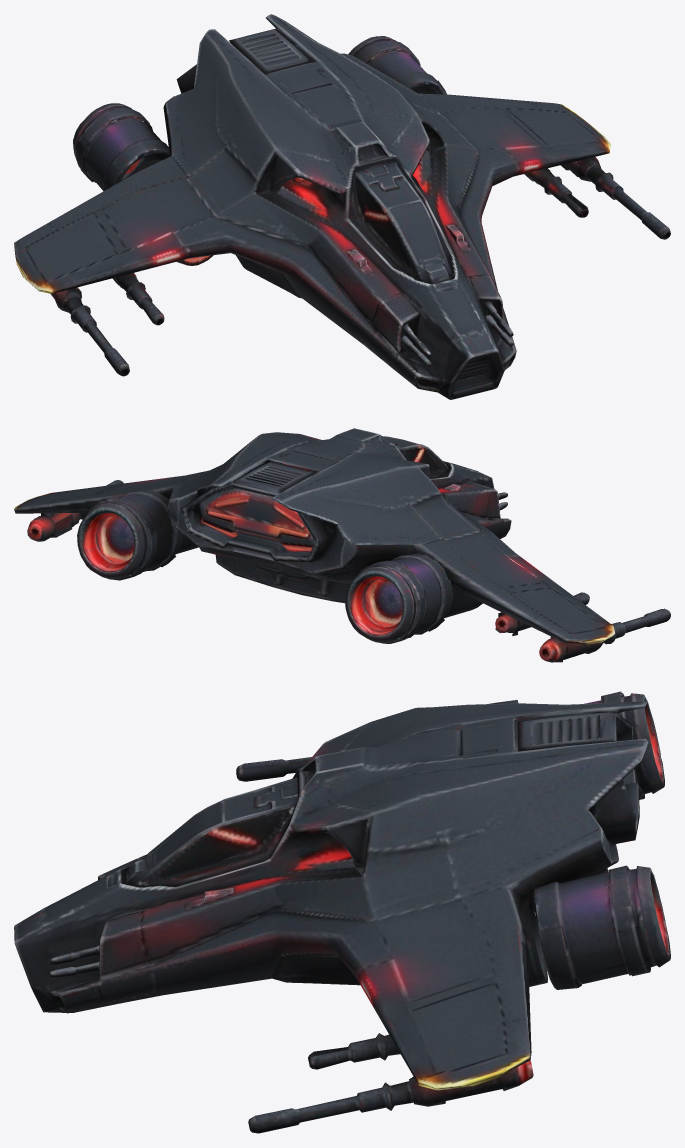
File: enemy_drone.glb
The picture shows the model from 3 angles, top to bottom: view 1: azimuth 30°, elevation 25°; view 2: azimuth 150°, elevation 25°; view 3: azimuth 270°, elevation 25°; orthographic projection. The views are drawn at different scales.
Visible parts, largest first — view 1: tripo_node_1194e0ba-7486-4633-ae4a-38edd37f275e; view 2: tripo_node_1194e0ba-7486-4633-ae4a-38edd37f275e; view 3: tripo_node_1194e0ba-7486-4633-ae4a-38edd37f275e.
Boxes of the visible parts, bbox=[...] form: tripo_node_1194e0ba-7486-4633-ae4a-38edd37f275e: bbox=[14, 14, 670, 399]; tripo_node_1194e0ba-7486-4633-ae4a-38edd37f275e: bbox=[14, 428, 670, 662]; tripo_node_1194e0ba-7486-4633-ae4a-38edd37f275e: bbox=[14, 691, 670, 1133].
Size of the model in its own units: 0.9995 by 0.3433 by 0.7407.
1 material, 1 textured.
